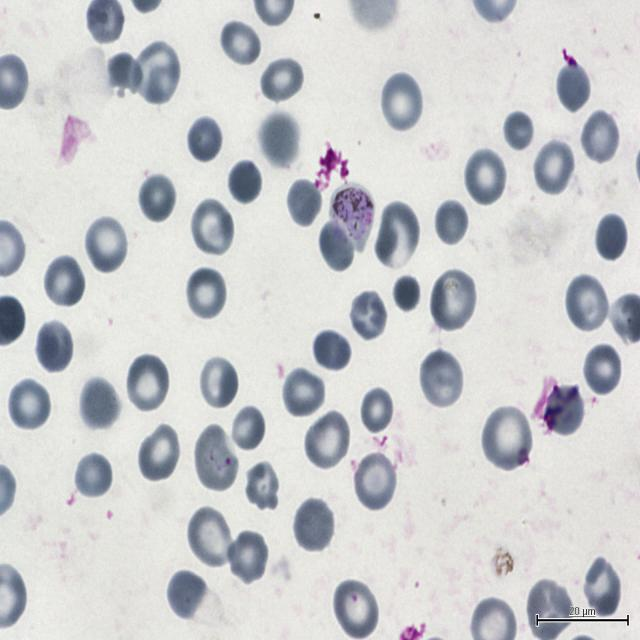difficult: (329, 183, 374, 252)
red blood cell: (481, 404, 533, 472), (132, 39, 182, 106), (429, 268, 477, 334), (332, 576, 381, 640), (374, 202, 420, 270), (304, 408, 351, 472), (195, 424, 239, 492), (418, 347, 464, 411), (564, 272, 611, 334), (352, 450, 398, 513), (84, 213, 130, 276), (186, 506, 231, 570), (189, 196, 235, 258), (124, 352, 170, 414), (581, 555, 624, 620), (463, 146, 508, 208), (380, 71, 424, 134), (137, 422, 182, 483), (42, 253, 88, 310), (532, 137, 576, 196), (292, 496, 336, 554), (185, 264, 228, 322), (197, 353, 240, 411), (258, 110, 301, 168), (7, 377, 52, 432), (78, 375, 121, 432), (281, 366, 326, 420), (227, 529, 270, 584), (165, 566, 208, 621), (259, 57, 306, 106), (582, 341, 623, 397), (580, 108, 620, 165), (34, 319, 74, 375), (348, 289, 388, 344), (219, 18, 262, 68), (243, 458, 282, 512), (543, 384, 584, 435), (137, 172, 177, 223), (310, 326, 352, 374), (185, 113, 223, 166), (592, 211, 630, 264), (357, 384, 394, 438), (556, 60, 594, 111), (74, 450, 112, 500), (432, 197, 470, 247), (226, 157, 264, 206), (106, 50, 146, 96), (319, 219, 352, 270), (288, 179, 322, 227), (232, 406, 266, 452), (502, 111, 534, 151), (391, 272, 421, 314)
